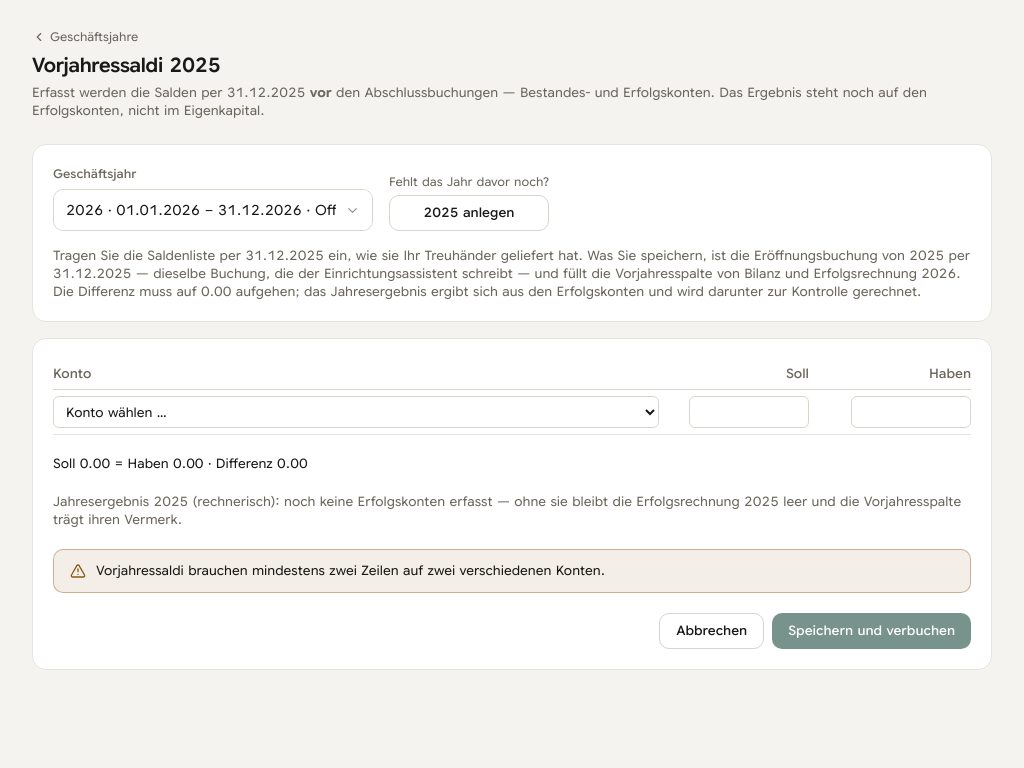
Test: PriorYearPage › priorYearSwitchesTheYearTest
Select "2026 · 01.01.2026 – 31.12.2026 · Offen" in the dropdown labelled "Geschäftsjahr" at (213, 210), box [54,190,372,230]
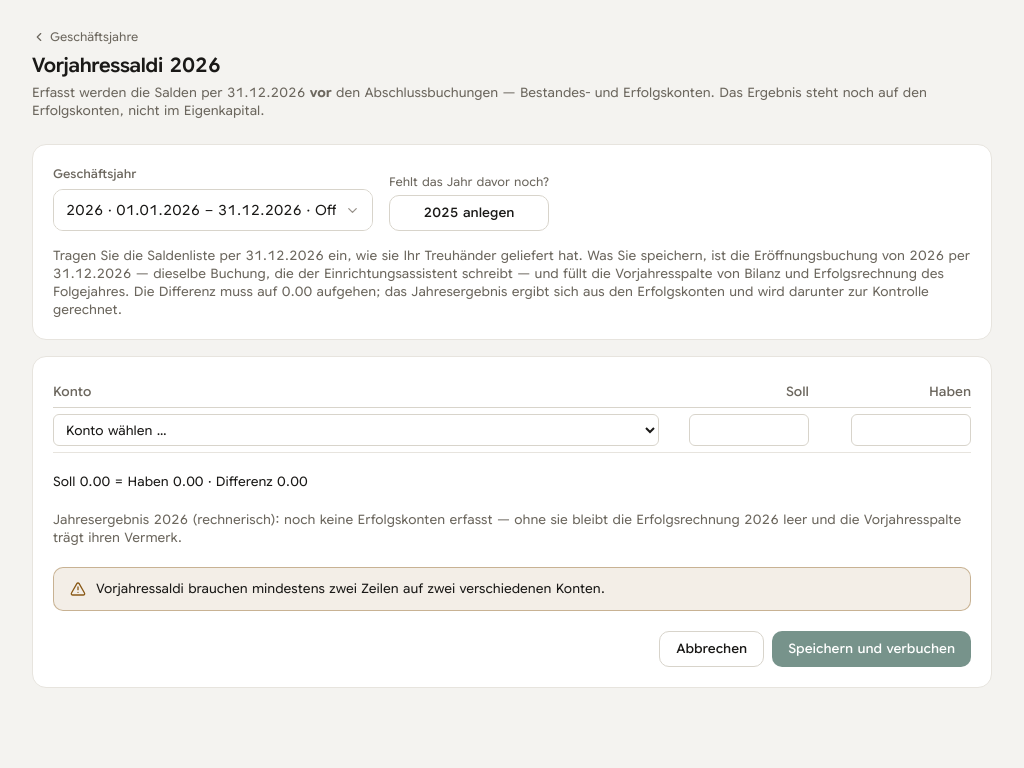
Check: the text "Vorjahressaldi 2026" is shown, box [32,53,220,78]
